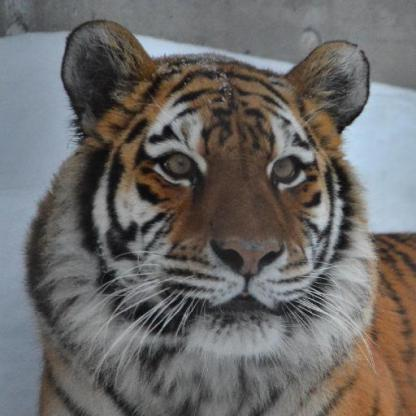tiger: (55, 44, 372, 340)
